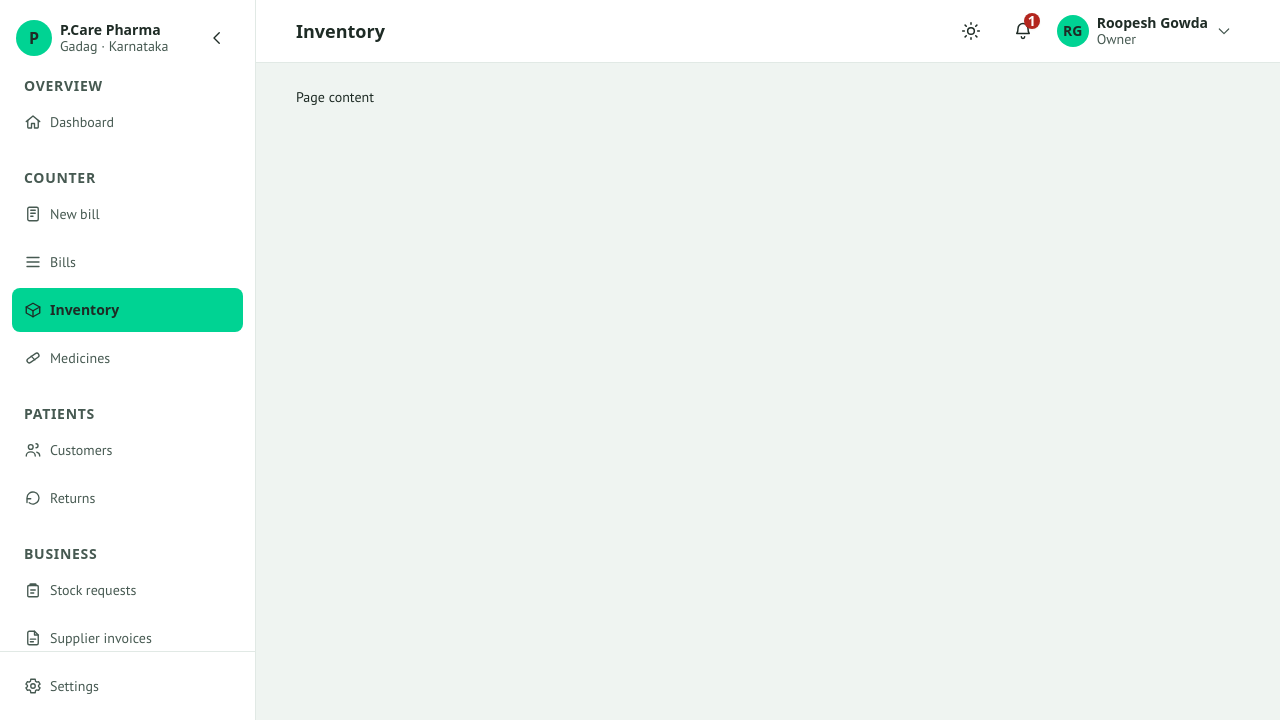
Test: AppShell — notification bell › opens a panel with a route to the full list
Click the button named "Notifications, 1 unread".
click(1023, 31)  # box [1001,8,1045,54]
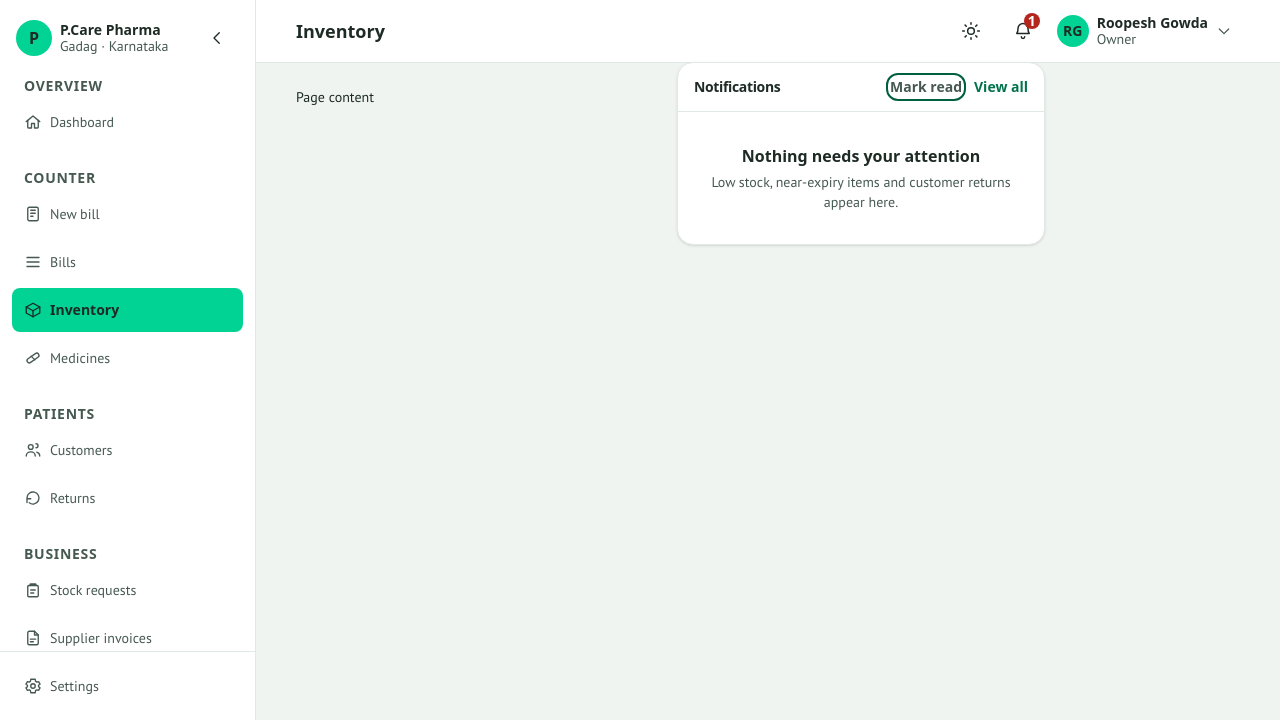
Result: the button with aria-label "View all notifications" is shown at [974,77,1028,97]
